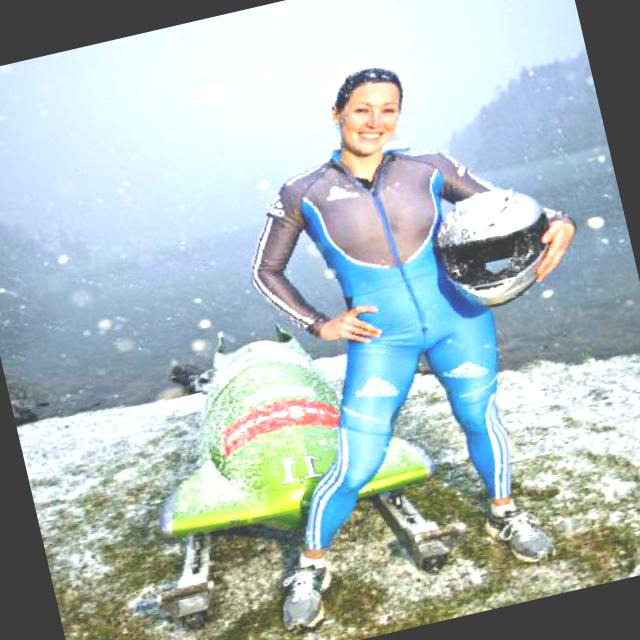Person: (145, 33, 606, 620)
